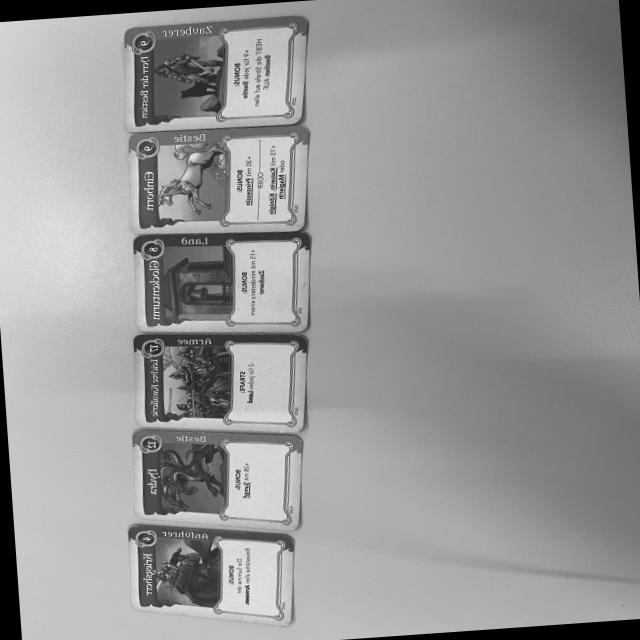Beast Master: (122, 14, 306, 132)
Clock Tower: (131, 230, 311, 333)
Dwarvish Infantry: (132, 333, 309, 434)
Hydra: (132, 428, 304, 532)
Unicorn: (129, 125, 309, 234)
Warlord: (125, 526, 297, 628)
